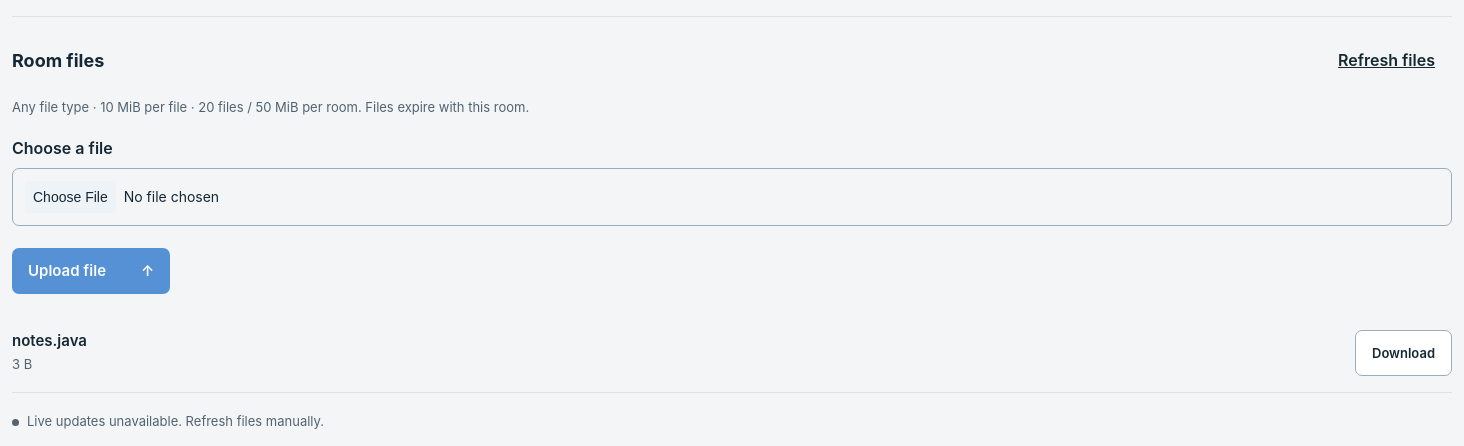
Test case: expired access clears files and disables uploads
Expected: the text "notes.java" is shown, [12,331,87,350]
What coordinates should you click on to do the following:
click the button "Refresh files"
I would click on:
 (1387, 60)
Its box is [1321,37,1452,83].
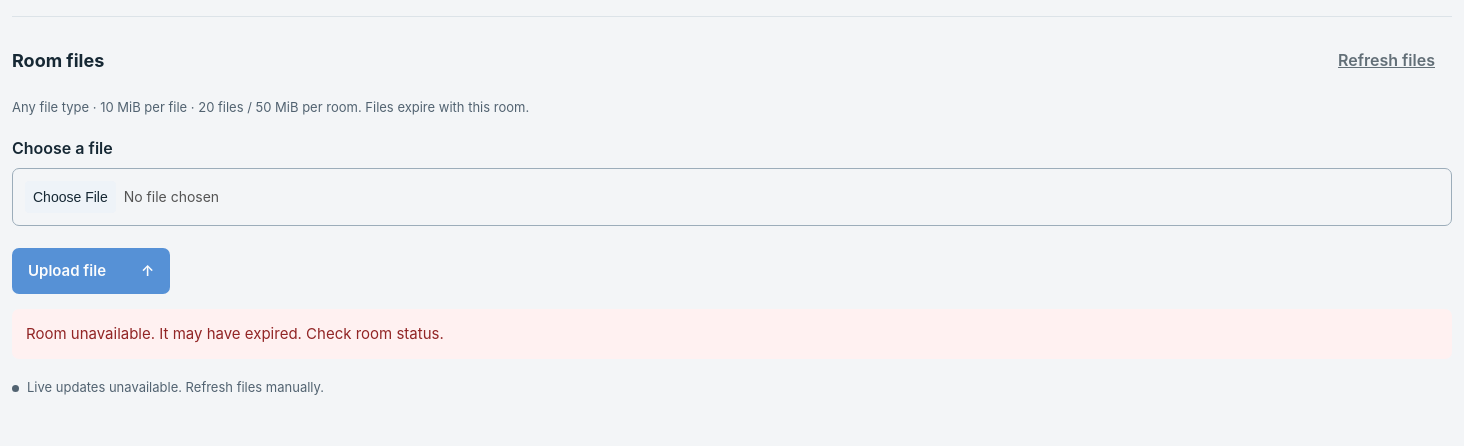
Expected: the message "Room unavailable. It may have expired. Check room status." is shown, [12,309,1452,359]
Expected: the text "notes.java" is gone
Expected: the file field labelled "Choose a file" is disabled, [12,168,1452,226]
